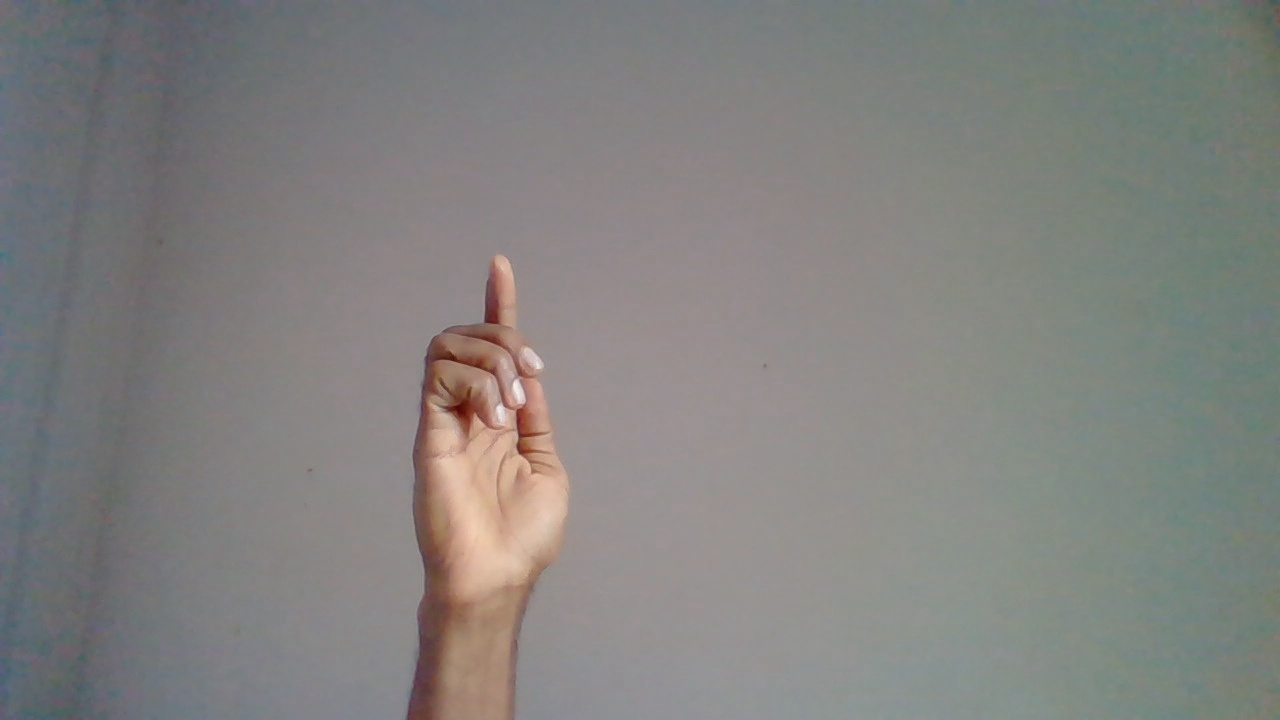qe: (410, 257, 581, 669)
